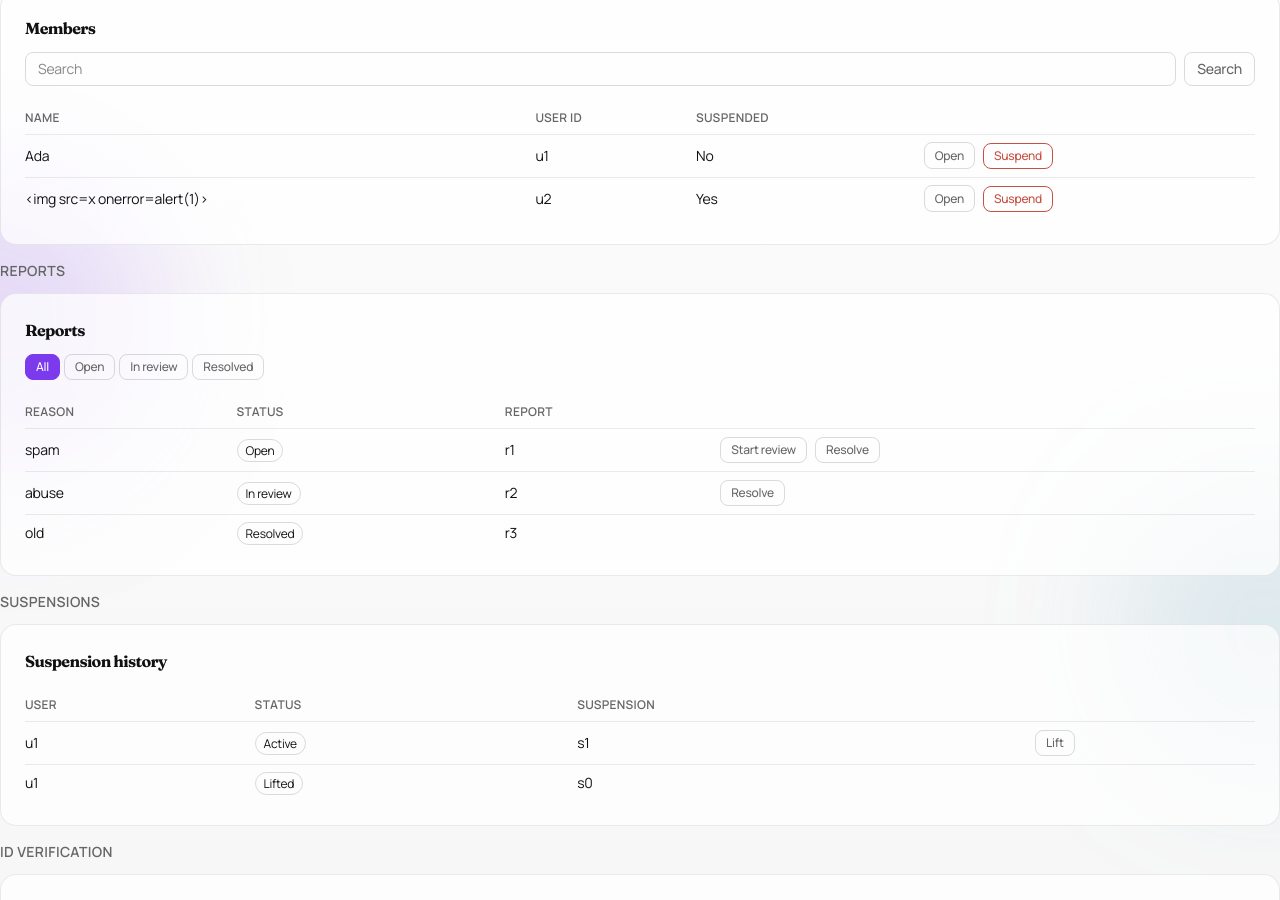
OperatorView — reports & suspensions (#240) › runs a transition with the displayed row and shows a conflict the platform reports
(page scrolled)
Expected: the text "spam" is shown, [25, 428, 236, 472]
Click the button "Start review".
click(764, 450)  # box [720, 437, 807, 463]
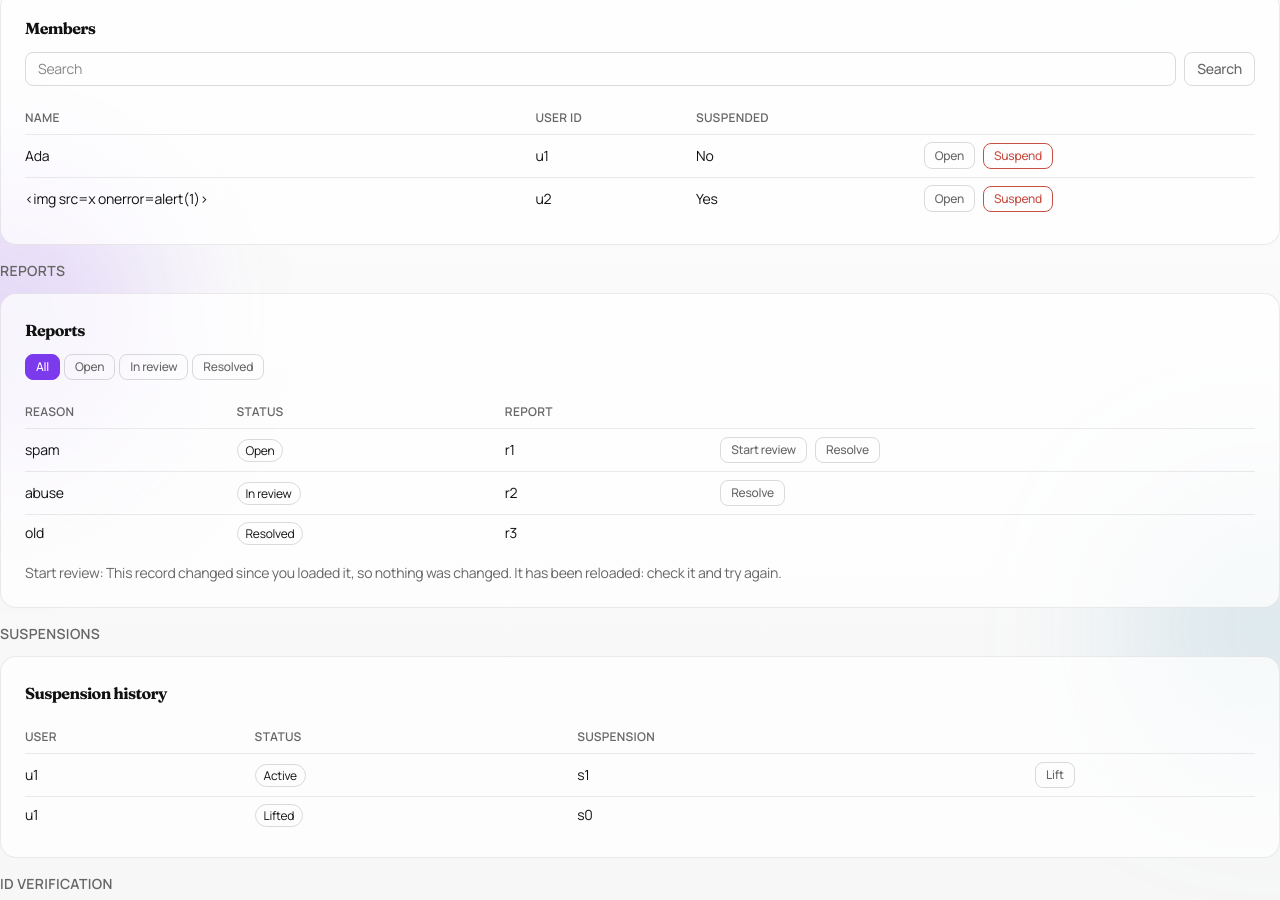
Now the text "Start review: This record changed since you loaded it, so nothing was changed. It has been reloaded: check it and try ag" is shown, box [25, 563, 782, 582]
